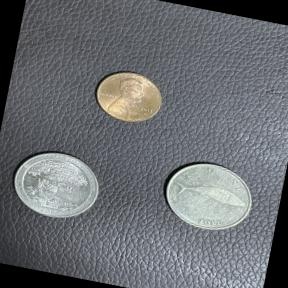coin: (154, 150, 262, 241), (2, 142, 107, 228), (88, 62, 170, 130)
